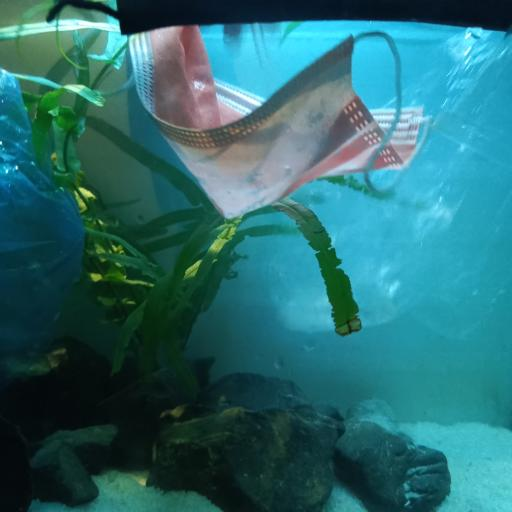mask: (115, 22, 423, 216), (41, 0, 512, 41)
plastic_bag: (260, 31, 512, 337), (0, 61, 91, 379)
